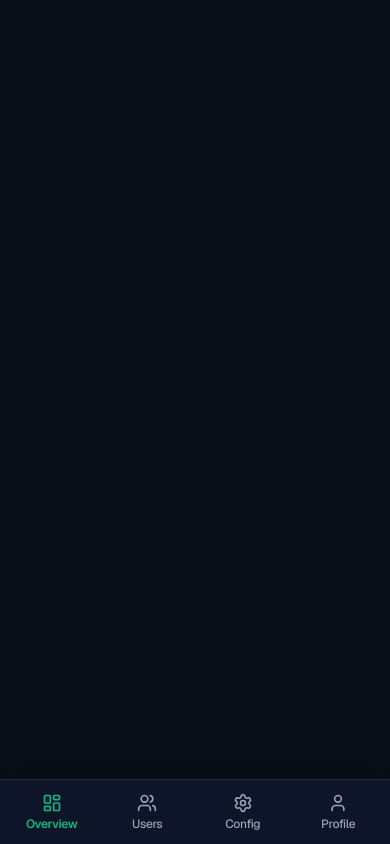
Scenario: MobileNav › opens the System Config section sheet for admins
Click the button "Config". click: (243, 812)
box: [195,780,290,843]
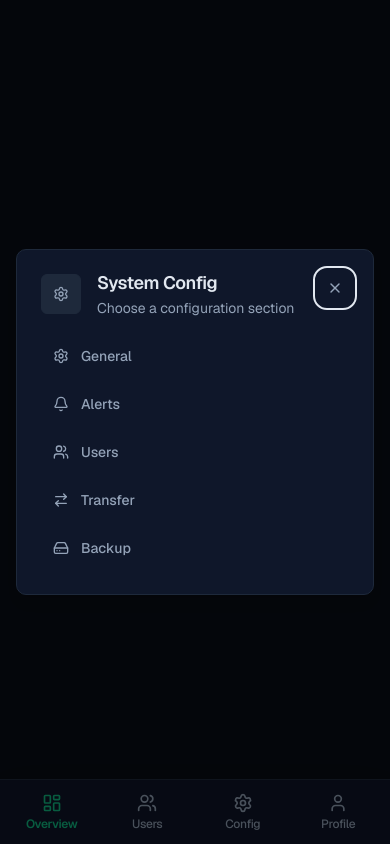
Result: the link "Users" is shown at [53,443,118,461]
Result: the link "Transfer" is shown at [53,491,135,509]
Result: the link "Backup" is shown at [53,539,131,557]
